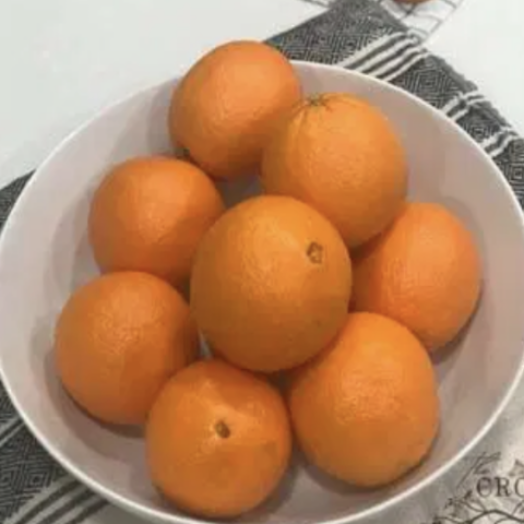orange: (185, 191, 358, 370), (321, 184, 511, 343), (280, 303, 440, 489), (136, 340, 292, 521), (30, 265, 203, 423), (163, 33, 312, 172)
